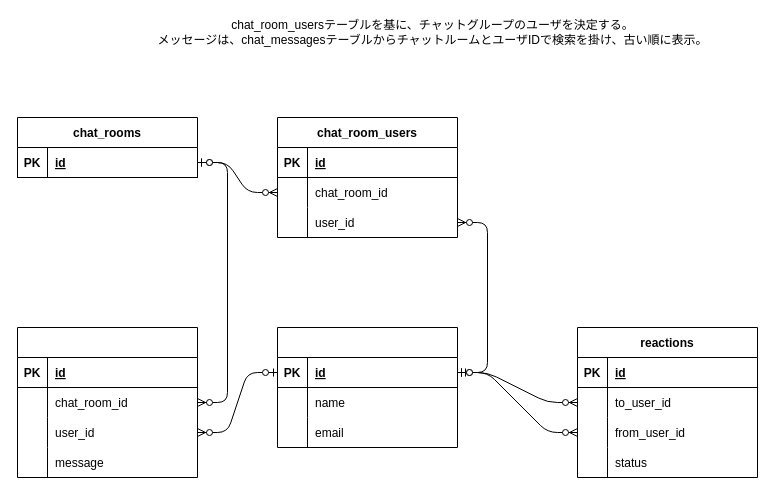
The diagram is 775 pixels wide and 495 high, and some of its shapes have lost their labels. Each missing label, with the box of its shape:
chat_messages: (16, 326, 198, 478)
users: (276, 326, 458, 448)
